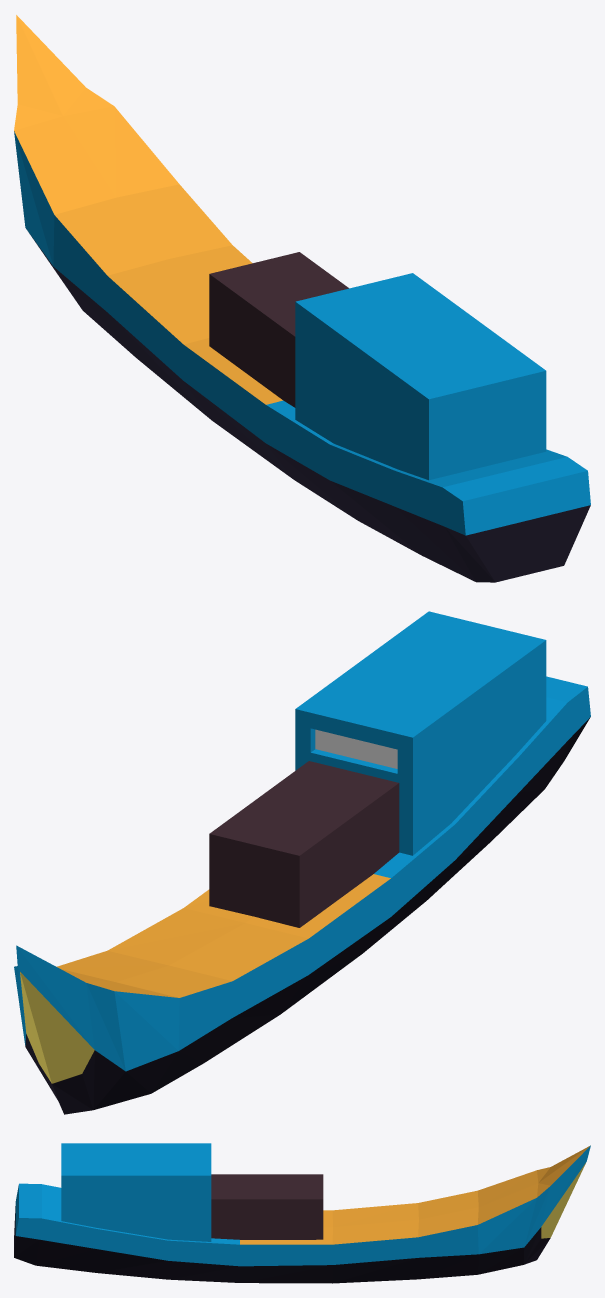
The model's file is Boat1B by nabiha.fbx.
3 renders of one model, top to bottom at view 1: azimuth 30°, elevation 25°; view 2: azimuth 150°, elevation 25°; view 3: azimuth 270°, elevation 25°, orthographic. The views are drawn at different scales.
Visible parts, largest first — view 1: Cube.007; view 2: Cube.007; view 3: Cube.007.
Boxes of the visible parts, x1=… form: Cube.007: x1=14, y1=15, x2=590, y2=582; Cube.007: x1=14, y1=611, x2=590, y2=1114; Cube.007: x1=14, y1=1143, x2=590, y2=1283.
Size of the model in its own units: 19.34 by 33.85 by 137.
